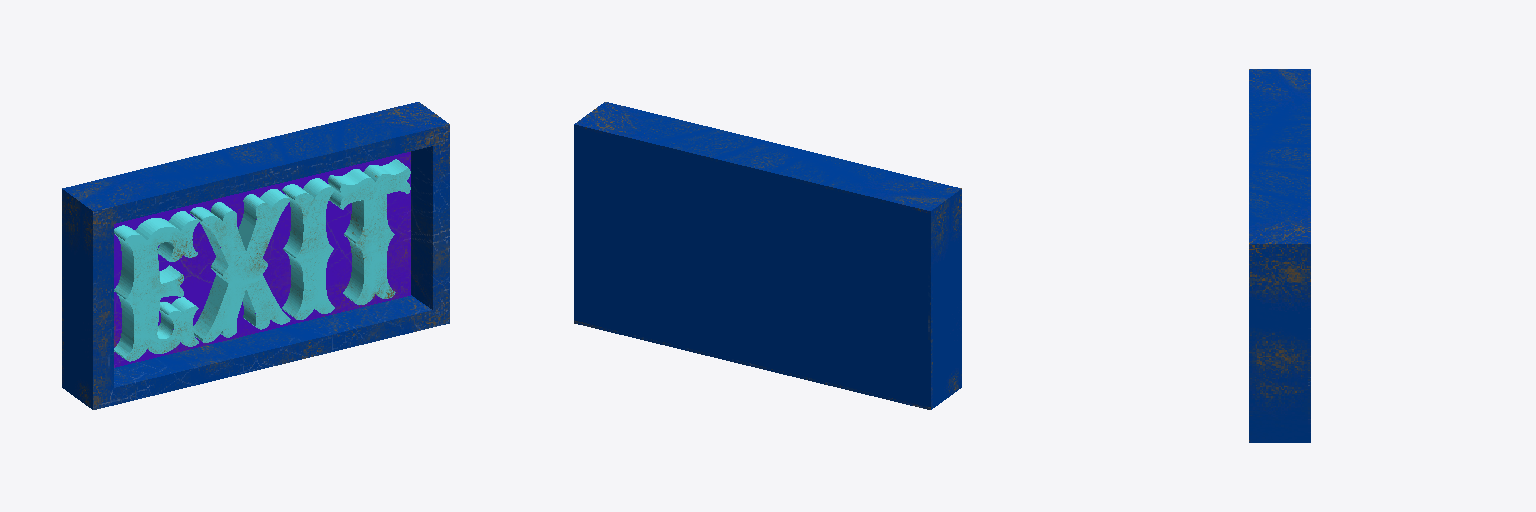
3 renders of one model, left to right at view 1: azimuth 30°, elevation 25°; view 2: azimuth 150°, elevation 25°; view 3: azimuth 270°, elevation 25°, orthographic.
Visible parts, largest first — view 1: Cube, Text; view 2: Cube; view 3: Cube.
Part boxes in pixels (left/top/right/bottom): Cube: left=62, top=102, right=449, bottom=409; Text: left=114, top=159, right=410, bottom=361; Cube: left=574, top=102, right=961, bottom=409; Cube: left=1249, top=69, right=1310, bottom=442.
Size of the model in its own units: 1.68 by 0.8951 by 0.2546.
Materials: 2 (2 with a texture image).